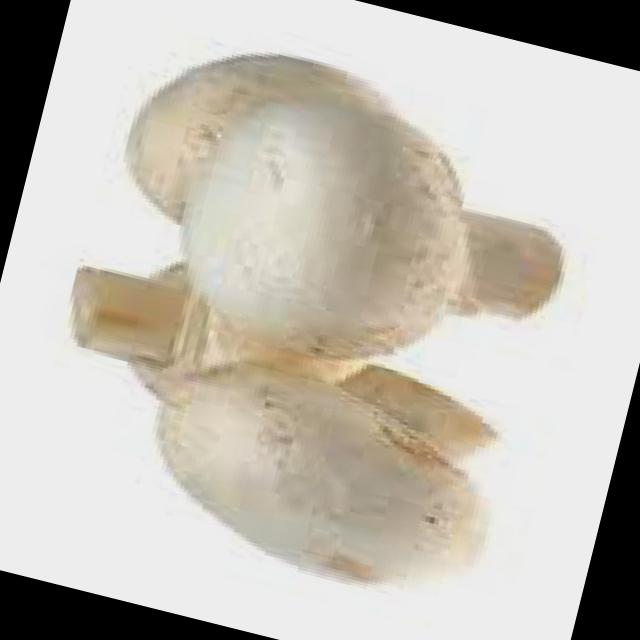Agaricus bisporus: (170, 67, 588, 424), (125, 317, 513, 604)
